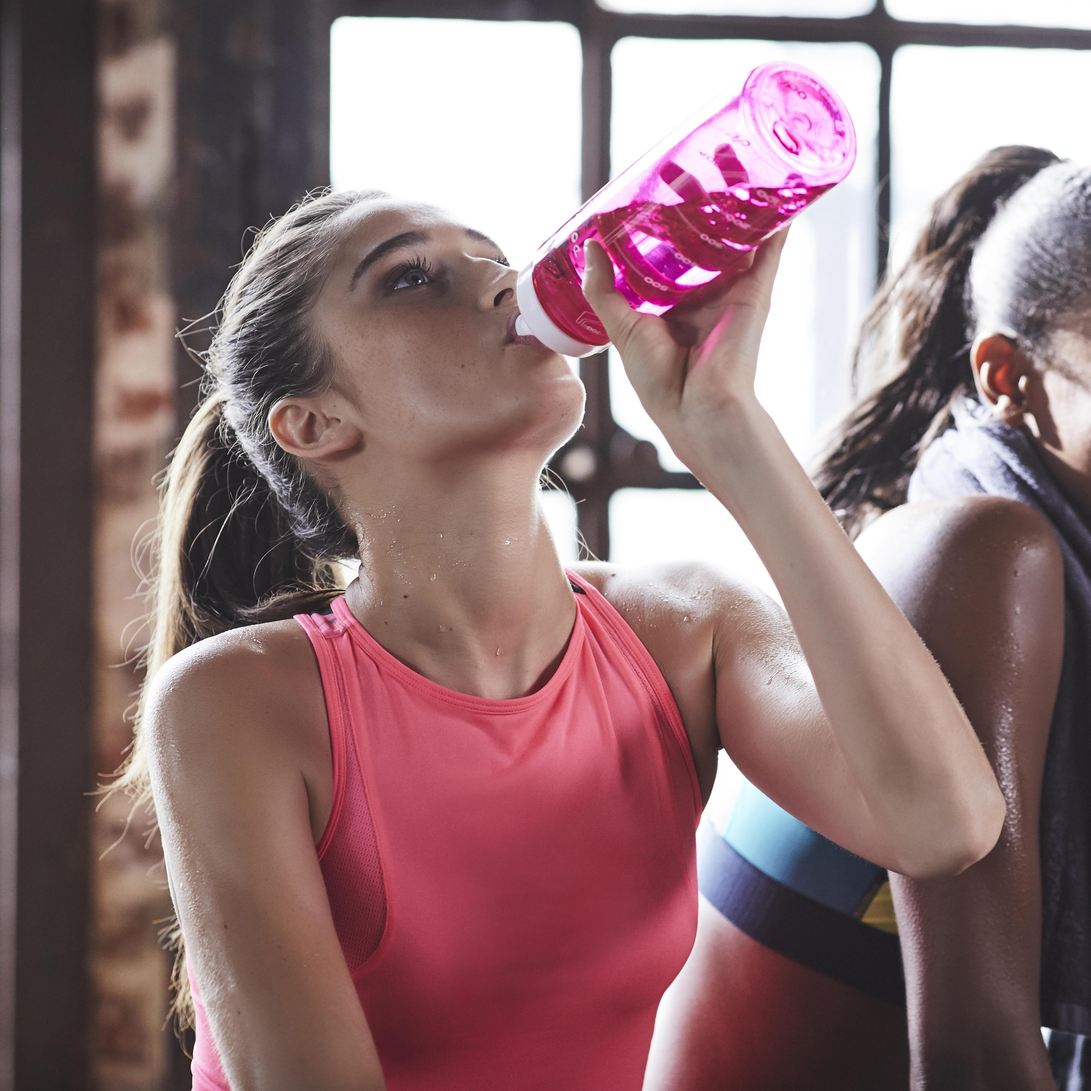gym bottle: (510, 59, 861, 358)
